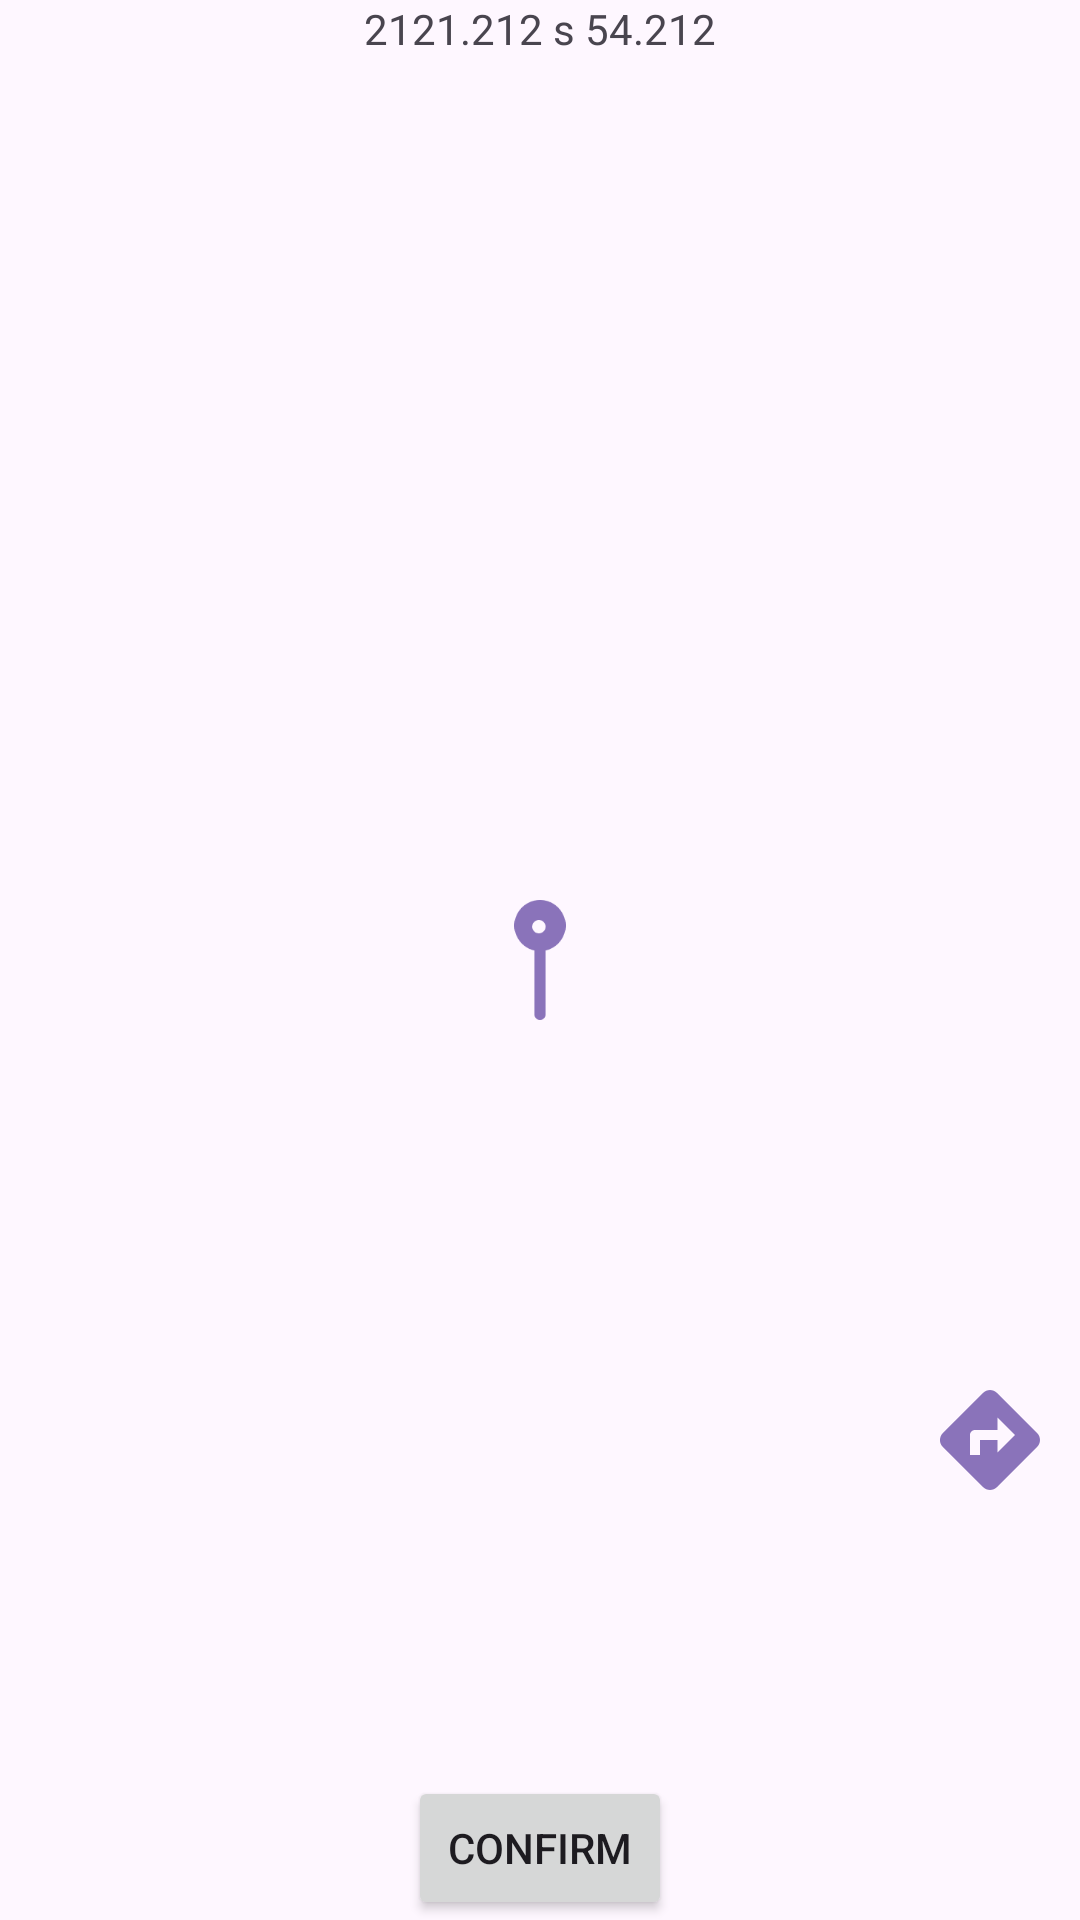

Screen size 1080w x 1920h. Icon name, then its box in pixels as bbox(x1, y1, x2, y2):
directions: bbox(940, 1390, 1040, 1490)
map pin: bbox(514, 900, 566, 1020)
